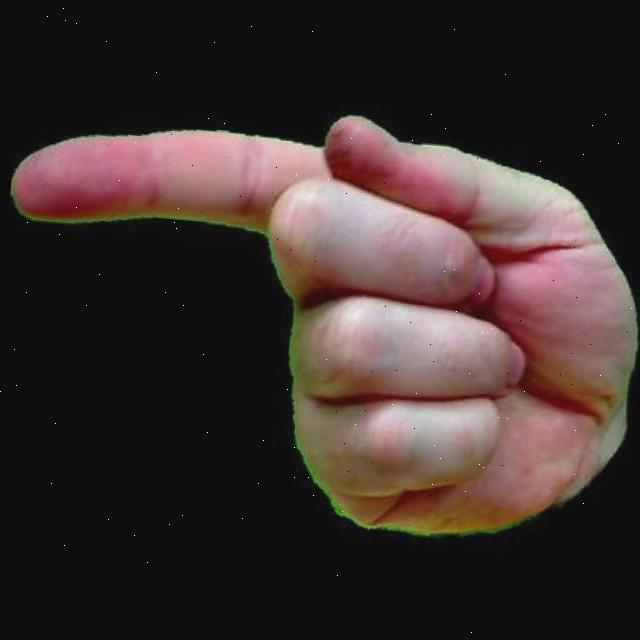g: (0, 72, 640, 563)
